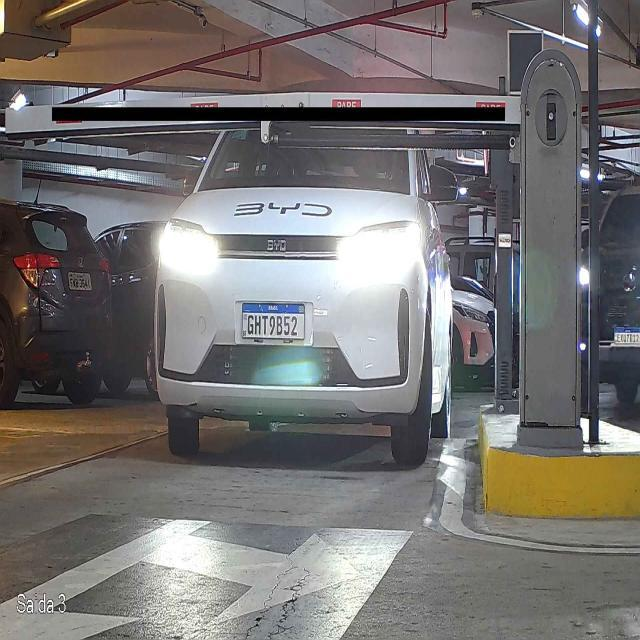mercosul_plate: (240, 301, 306, 341)
